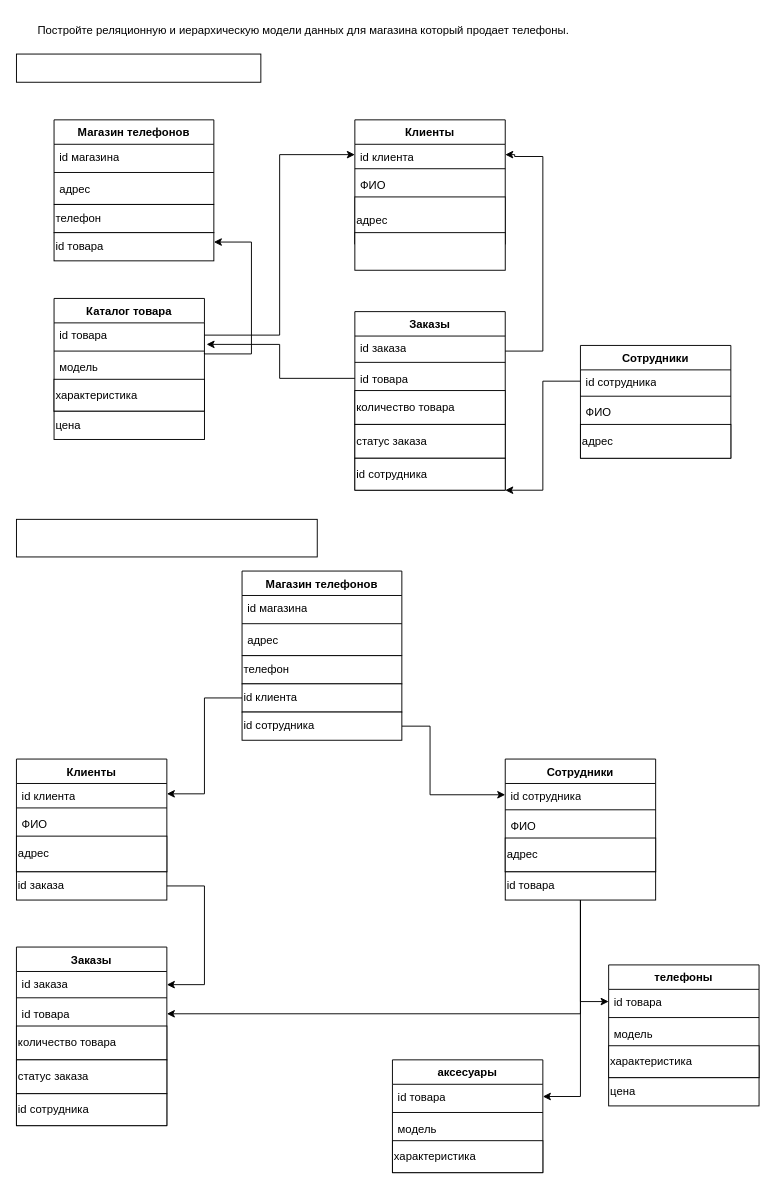
The diagram is 776 pixels wide and 1189 high, and some of its shapes have lost their labels. Here are the shapes that lost their labels. From the top down, the centre of each, then its label:
At point 138,67: "Реляционная модель".
At point 429,251: "е-mail".
At point 166,537: "Иерархическая модель".
